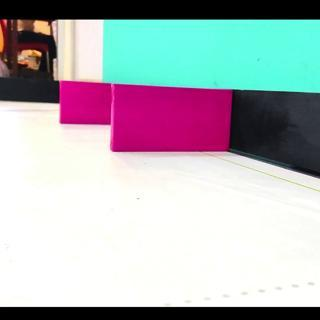xparking: (113, 91, 229, 151), (62, 84, 111, 124)
